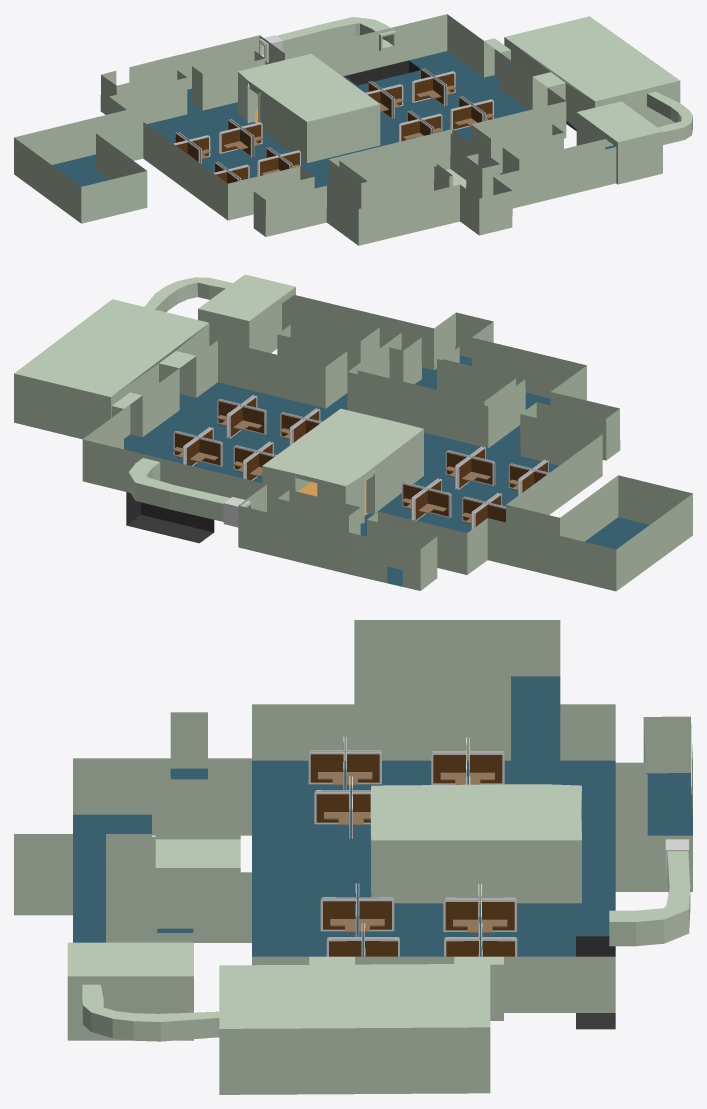
Rendered from NormaledMockUp.fbx.
3 views of the same model, one above another, from view 1: azimuth 30°, elevation 25°; view 2: azimuth 150°, elevation 25°; view 3: azimuth 270°, elevation 25° (orthographic). The views are drawn at different scales.
Parts seen in each view (by area): view 1: Cube.027, Cube.004, Cube.028, Cube.005, Cube.006, Cube.007, Cube.001, Cube.003, Cube.002; view 2: Cube.027, Cube.001, Cube.005, Cube.028, Cube.004, Cube.007, Cube.003, Cube.006, Cube.002, Cube; view 3: Cube.027, Cube.006, Cube.002, Cube.007, Cube.003, Cube.001, Cube.005, Cube.004.
Boxes of the visible parts, x1=… form: Cube.027: x1=14, y1=14, x2=692, y2=245; Cube.004: x1=411, y1=68, x2=456, y2=106; Cube.028: x1=218, y1=119, x2=263, y2=157; Cube.005: x1=449, y1=96, x2=494, y2=130; Cube.006: x1=398, y1=110, x2=442, y2=141; Cube.007: x1=365, y1=81, x2=403, y2=118; Cube.001: x1=256, y1=147, x2=300, y2=176; Cube.003: x1=173, y1=132, x2=210, y2=164; Cube.002: x1=214, y1=161, x2=249, y2=183; Cube.027: x1=14, y1=274, x2=692, y2=591; Cube.001: x1=445, y1=446, x2=495, y2=490; Cube.005: x1=216, y1=395, x2=267, y2=438; Cube.028: x1=401, y1=478, x2=452, y2=520; Cube.004: x1=172, y1=427, x2=223, y2=466; Cube.007: x1=232, y1=441, x2=276, y2=480; Cube.003: x1=461, y1=492, x2=505, y2=529; Cube.006: x1=279, y1=408, x2=322, y2=445; Cube.002: x1=508, y1=459, x2=549, y2=495; Cube: x1=223, y1=497, x2=250, y2=527; Cube.027: x1=14, y1=620, x2=692, y2=1094; Cube.006: x1=320, y1=883, x2=394, y2=936; Cube.002: x1=308, y1=736, x2=381, y2=790; Cube.007: x1=443, y1=884, x2=516, y2=946; Cube.003: x1=431, y1=737, x2=504, y2=784; Cube.001: x1=314, y1=776, x2=370, y2=838; Cube.005: x1=326, y1=923, x2=399, y2=956; Cube.004: x1=444, y1=923, x2=517, y2=956.
Size of the model in its own units: 4522 by 557 by 3136.
